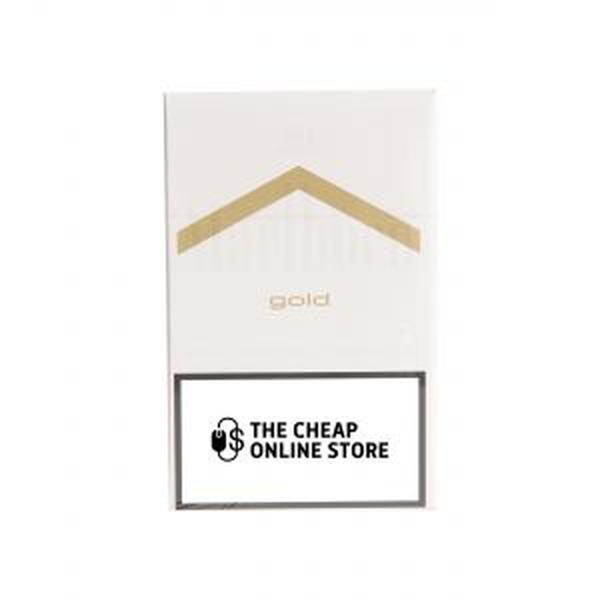marlboro_gold: (172, 89, 428, 509)
